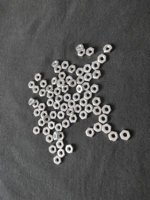nut: (121, 130, 132, 141), (86, 127, 96, 138), (109, 131, 119, 142), (102, 105, 113, 115), (103, 44, 114, 54), (102, 124, 113, 134), (99, 114, 109, 124), (92, 97, 102, 107), (91, 84, 100, 94), (93, 106, 102, 116), (98, 55, 108, 64), (65, 145, 74, 154), (62, 120, 71, 129), (79, 111, 88, 120), (63, 93, 72, 102), (83, 64, 92, 73), (86, 48, 95, 57), (94, 123, 103, 132), (56, 140, 65, 149), (57, 111, 66, 120), (78, 48, 87, 57), (85, 104, 94, 113), (80, 98, 89, 107), (84, 91, 93, 100), (43, 115, 52, 124), (77, 76, 86, 85), (92, 61, 101, 70), (49, 145, 57, 155), (93, 70, 101, 80), (74, 104, 82, 114), (55, 123, 63, 133), (54, 156, 62, 165), (53, 101, 61, 110), (33, 108, 41, 117), (73, 93, 81, 102), (68, 65, 76, 74), (58, 72, 67, 80), (69, 79, 77, 88), (58, 149, 66, 158), (48, 121, 56, 130), (76, 44, 85, 52), (70, 115, 78, 124), (84, 73, 93, 81), (61, 103, 69, 112), (54, 65, 62, 74), (34, 73, 42, 81), (47, 91, 55, 99), (33, 127, 41, 135), (46, 135, 54, 143), (83, 83, 91, 91), (38, 119, 46, 127), (28, 81, 36, 89), (39, 89, 47, 97), (40, 80, 48, 88), (67, 108, 75, 116), (62, 85, 70, 93), (50, 111, 57, 120), (47, 99, 54, 107), (43, 128, 50, 136), (41, 111, 48, 119), (39, 103, 46, 111), (46, 85, 54, 92), (54, 88, 61, 96), (56, 95, 63, 103), (52, 61, 60, 68), (62, 61, 69, 69), (57, 80, 65, 87), (66, 76, 73, 84), (77, 85, 83, 94), (59, 132, 65, 141), (69, 101, 76, 108), (33, 86, 39, 94), (29, 98, 35, 106), (33, 100, 39, 108), (52, 77, 58, 85), (54, 132, 59, 141)
